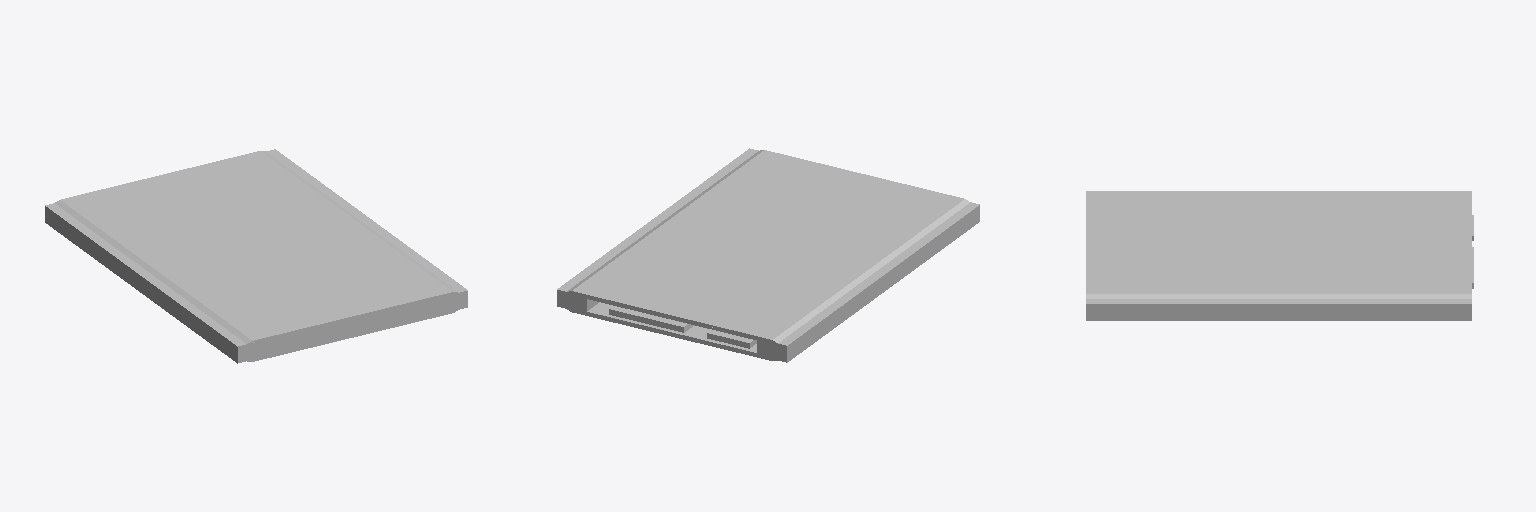
File: ssd.obj
3 renders of one model, left to right at view 1: azimuth 30°, elevation 25°; view 2: azimuth 150°, elevation 25°; view 3: azimuth 270°, elevation 25°, orthographic.
Visible parts, largest first — view 1: Cube; view 2: Cube; view 3: Cube.
Part boxes in pixels (x1,y1,x2,y2): Cube: (45,149,467,363); Cube: (557,148,979,362); Cube: (1086,191,1473,320).
Bounding box in the file's own units: 4.25 × 0.375 × 6.19.